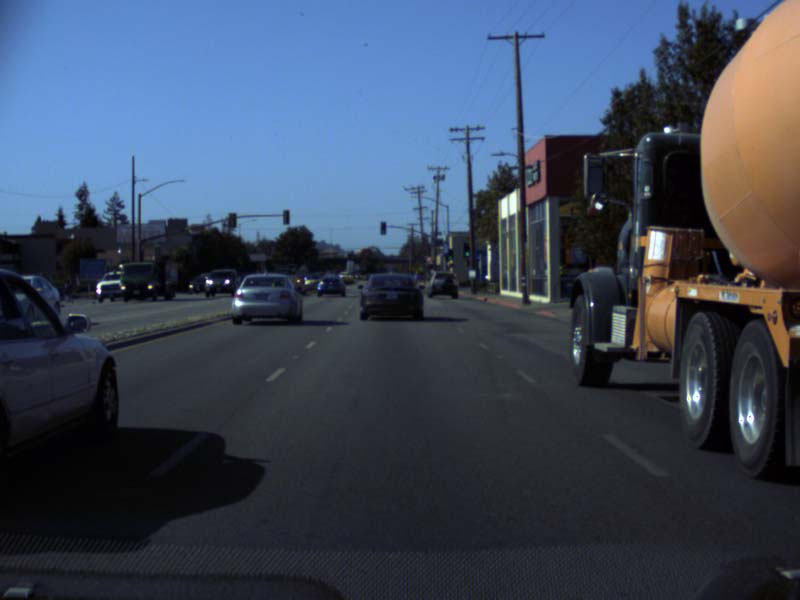Green: (463, 243, 470, 257), (380, 222, 385, 234), (448, 250, 451, 260)
